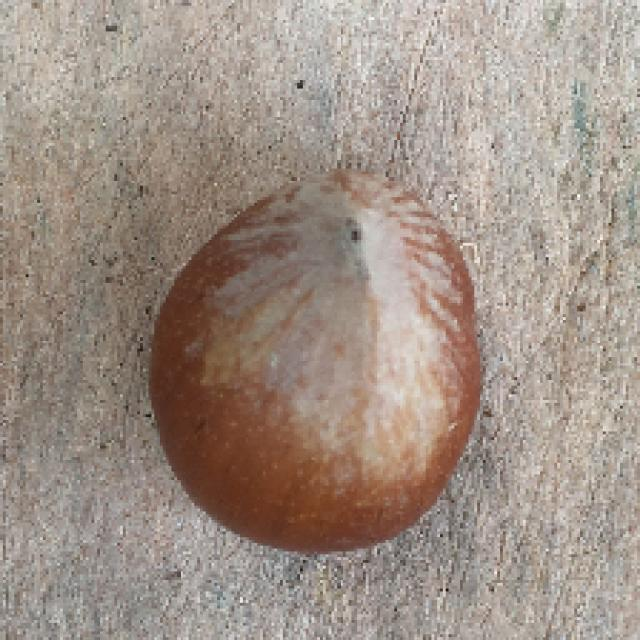QualityHazelnut: (147, 170, 481, 555)
